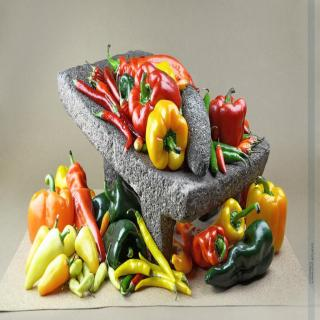Bell pepper: (25, 171, 72, 246), (244, 178, 287, 255), (146, 100, 187, 171), (208, 88, 247, 148), (104, 222, 148, 270), (212, 198, 260, 238), (104, 177, 144, 224), (190, 224, 230, 266), (92, 190, 112, 235)
